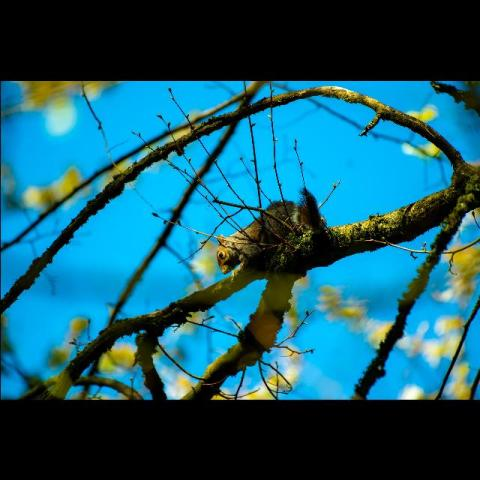small_animal: (213, 186, 330, 277)
